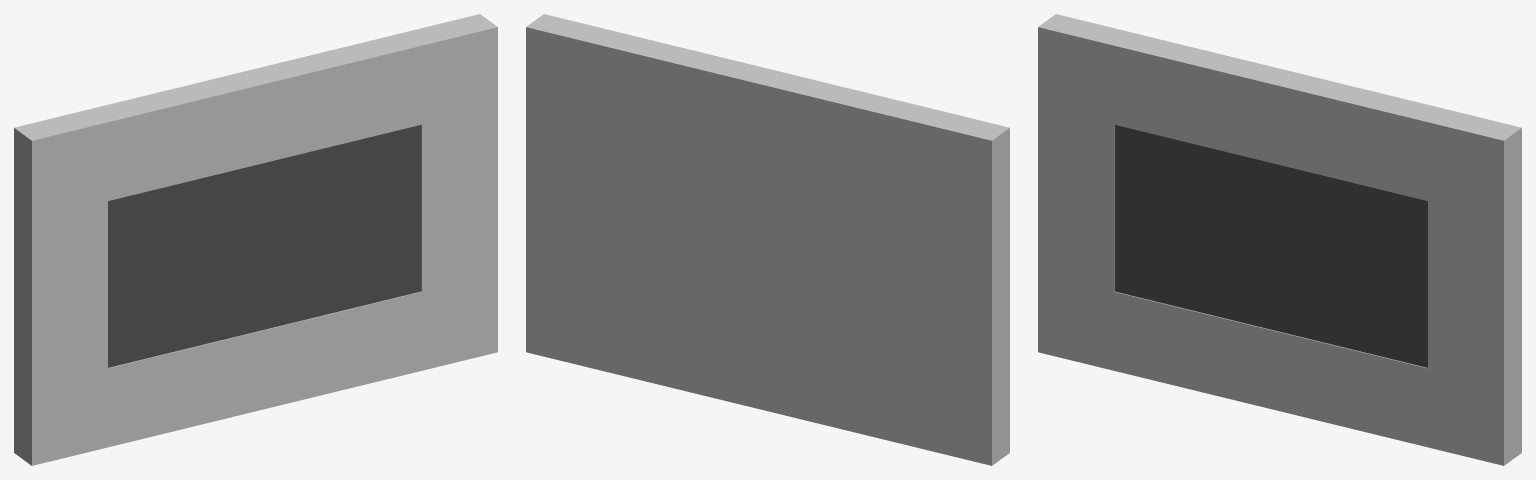
File: Toilet1_C1_04.fbx
The picture shows the model from 3 angles, left to right: view 1: azimuth 30°, elevation 25°; view 2: azimuth 150°, elevation 25°; view 3: azimuth 330°, elevation 25°; orthographic projection.
Parts seen in each view (by area): view 1: Toilet1_C1_04; view 2: Toilet1_C1_04; view 3: Toilet1_C1_04.
Boxes of the visible parts, bbox=[...] form: Toilet1_C1_04: bbox=[14, 14, 497, 465]; Toilet1_C1_04: bbox=[526, 14, 1009, 465]; Toilet1_C1_04: bbox=[1038, 14, 1521, 465].
Size of the model in its own units: 15 by 10 by 1.
